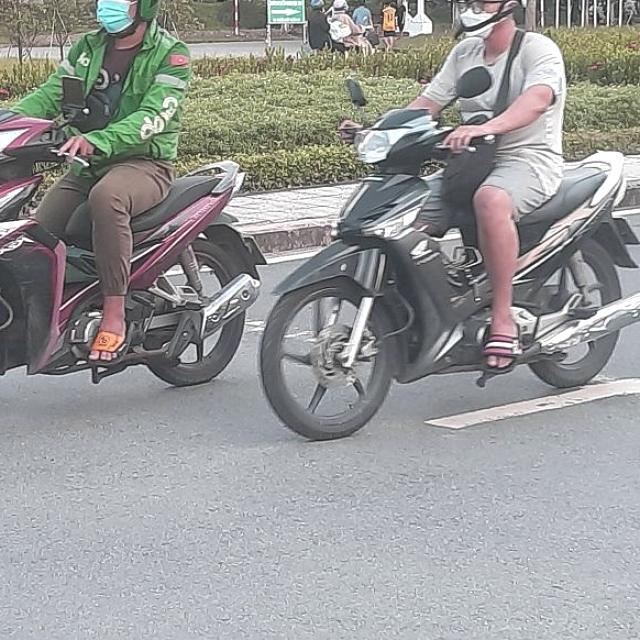Helmet: (454, 0, 531, 42), (82, 0, 162, 35)
